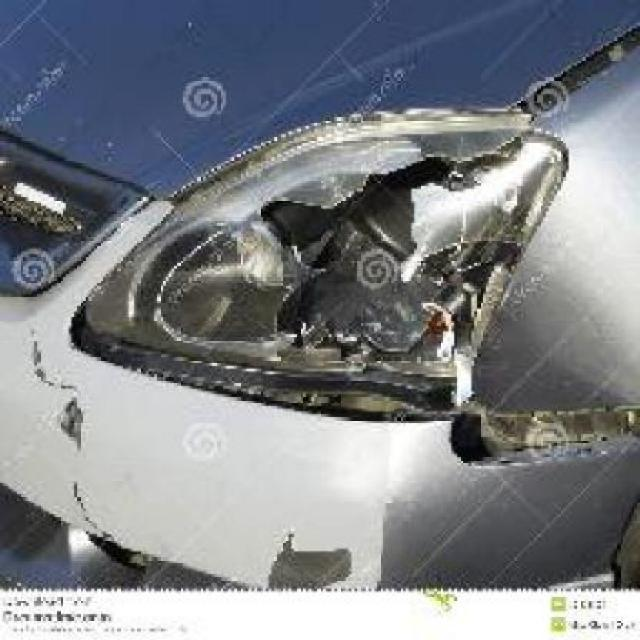damaged-head-light: (78, 108, 562, 407)
